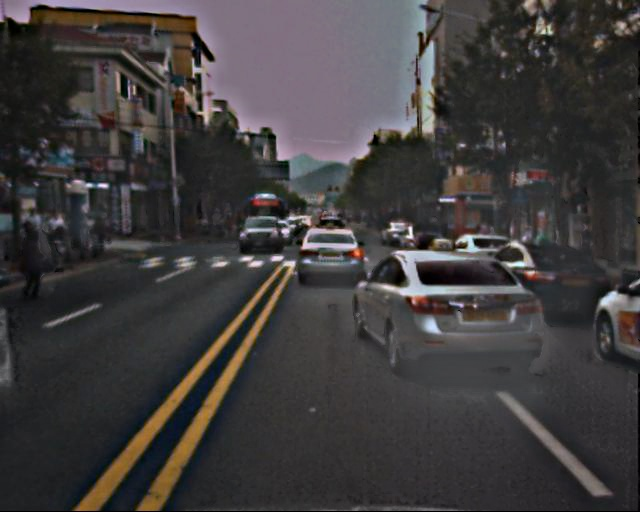person: (24, 209, 115, 272), (572, 221, 600, 289)
